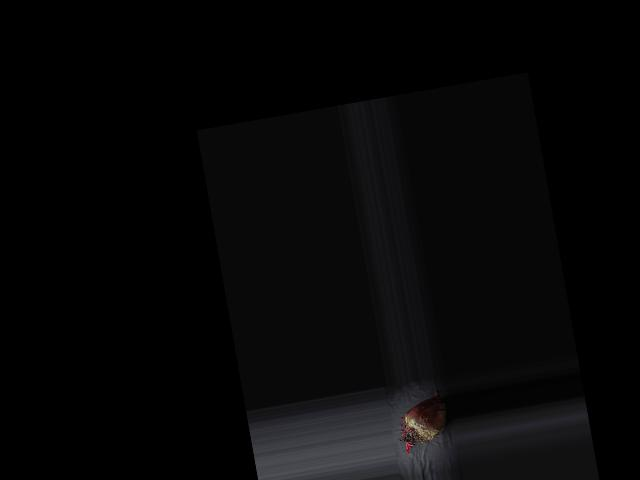beet: (391, 387, 452, 455)
